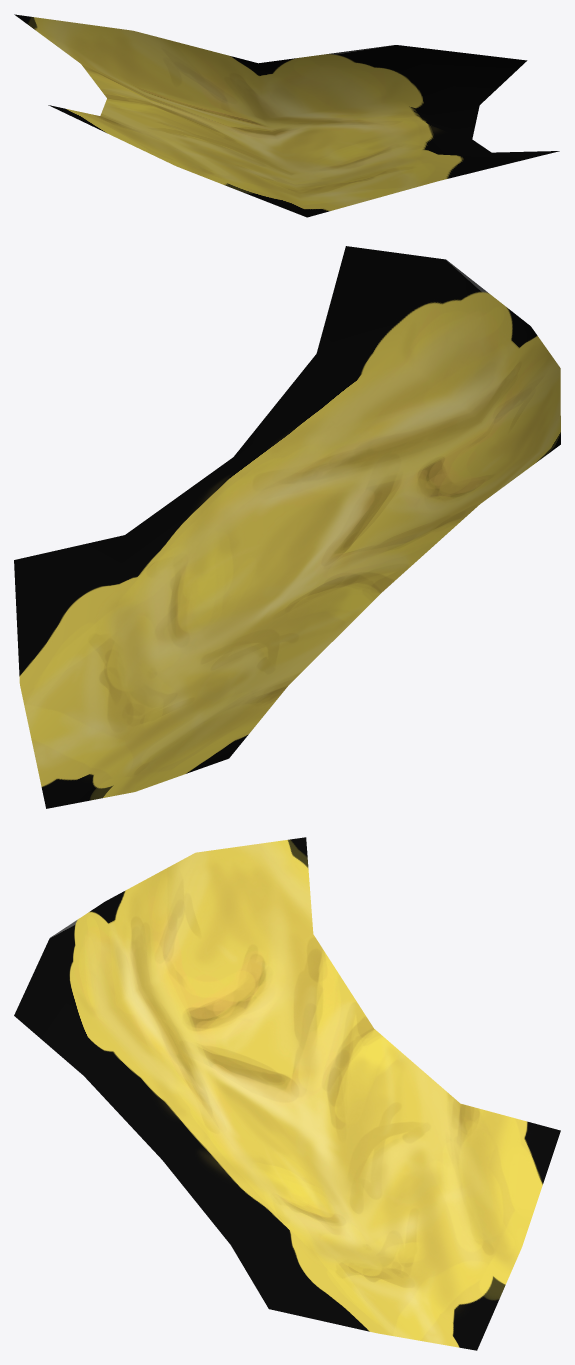
Rendered from TheGoldenFleece.FBX.
3 views of the same model, one above another, from view 1: azimuth 30°, elevation 25°; view 2: azimuth 150°, elevation 25°; view 3: azimuth 270°, elevation 25° (orthographic). The views are drawn at different scales.
Parts seen in each view (by area): view 1: Plane001; view 2: Plane001; view 3: Plane001.
Part boxes in pixels (x1,y1,x2,y2): Plane001: [14, 14, 559, 217]; Plane001: [14, 246, 560, 808]; Plane001: [14, 837, 560, 1350].
Bounding box in the file's own units: 49.58 × 33.9 × 47.94.
